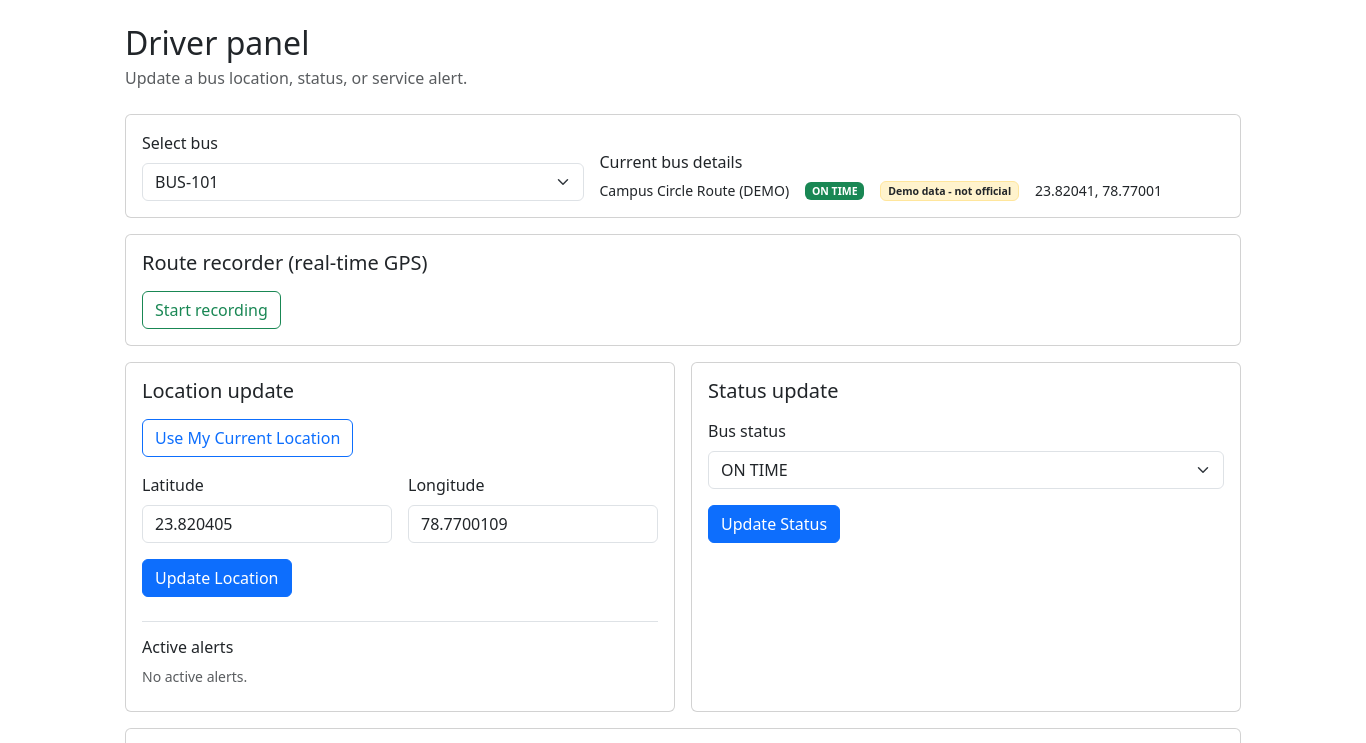
Test: DriverPanelPage › disables an update while it is pending and ignores duplicate submissions
Check: the heading "Driver panel" is shown, box 125,21 -> 309,64
Click the button "Update Location".
click(217, 578)  # box 142,559 -> 292,597
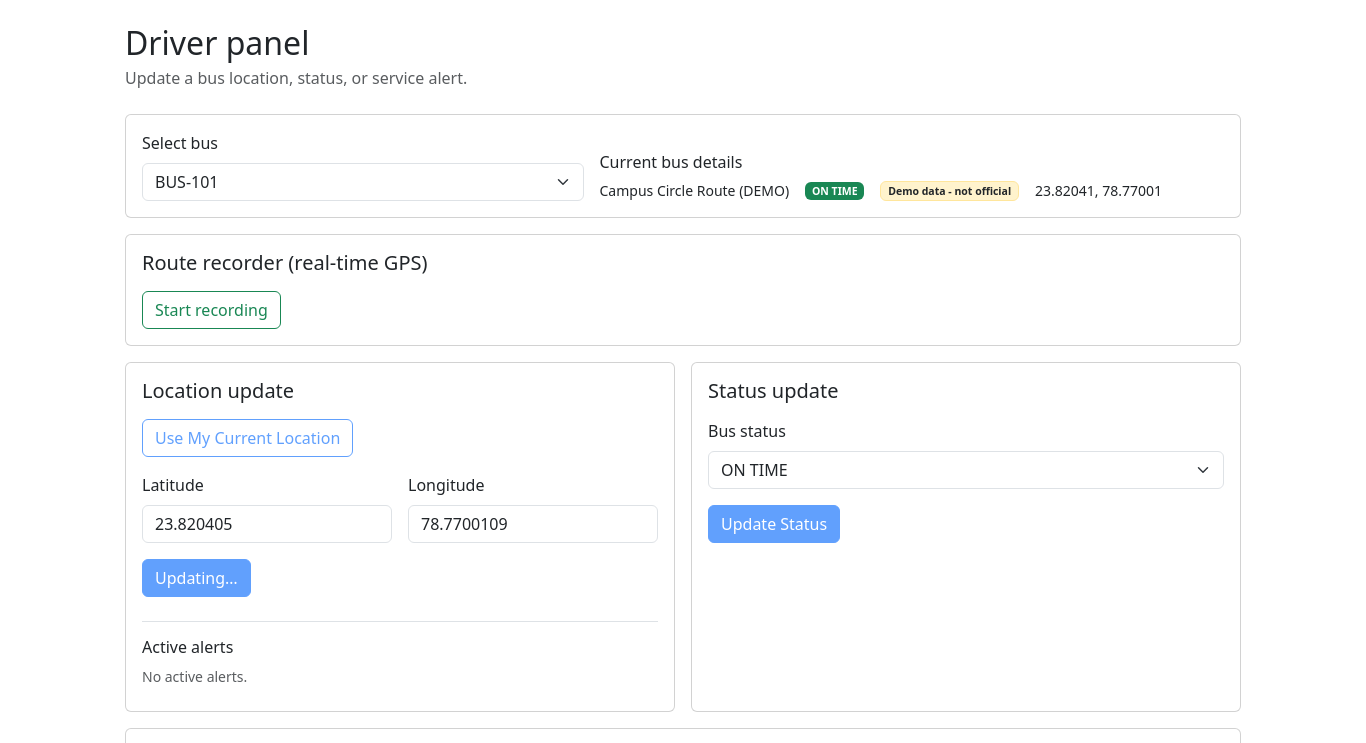
Check: the button named "Update Location" is disabled
Click the button named "Update Location".
click(196, 578)  # box 142,559 -> 251,597
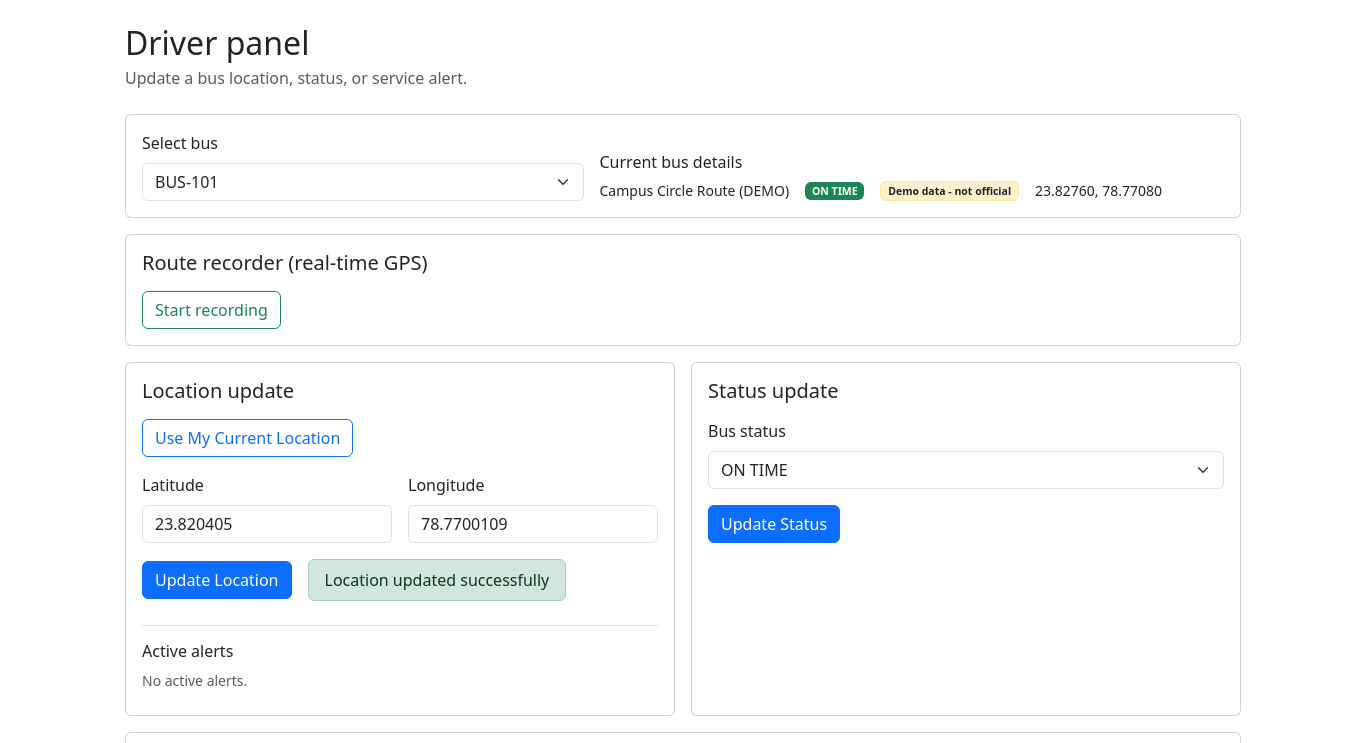
Check: the text "Location updated successfully" is shown, box 308,559 -> 566,601
